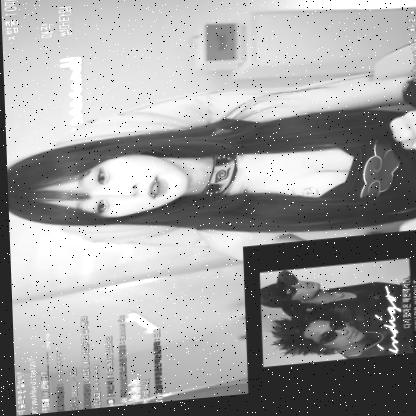donation: (240, 237, 416, 398)
streamer: (3, 82, 416, 304)
